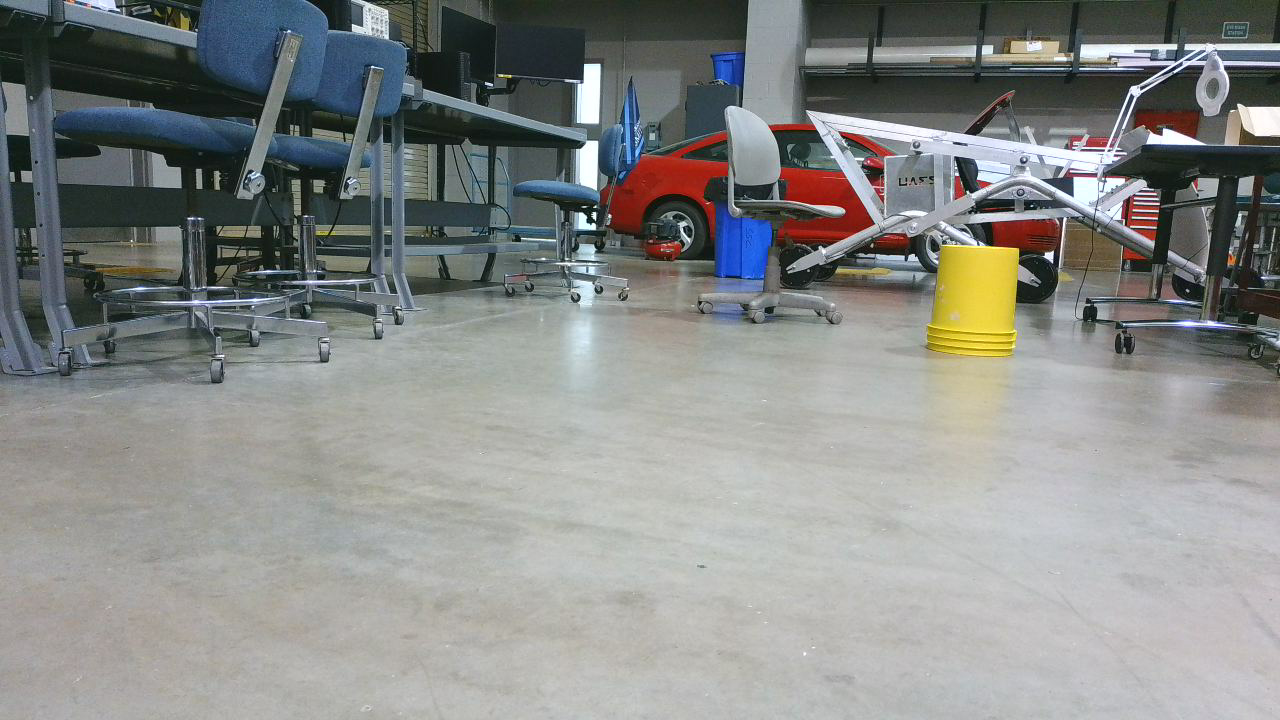yellow_bucket: (933, 251, 1026, 360)
